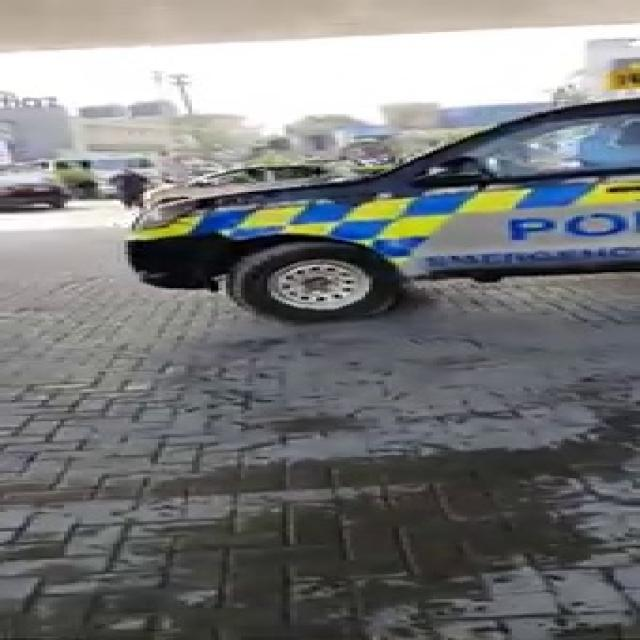police: (81, 60, 640, 324)
